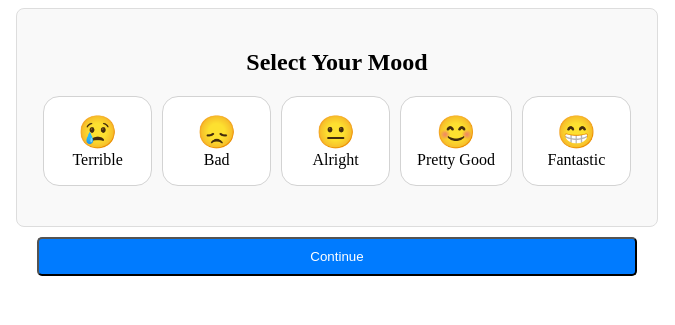
Scenario: WellbeingWidget Component › selects an emoji and displays the selected emoji text
# Click on the first emoji
Click the text "😢" at point(98, 132), box left=78, top=114, right=118, bottom=150
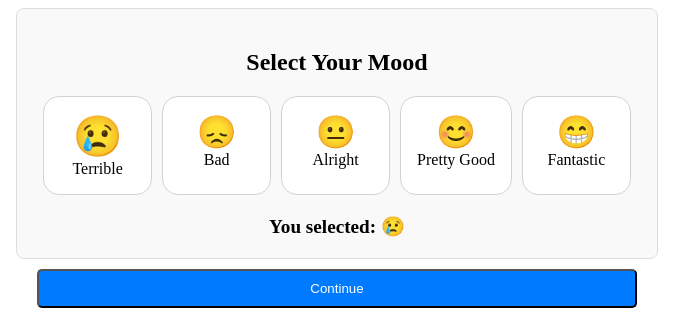
Now the text "You selected: 😢" is shown, box left=269, top=216, right=405, bottom=237
